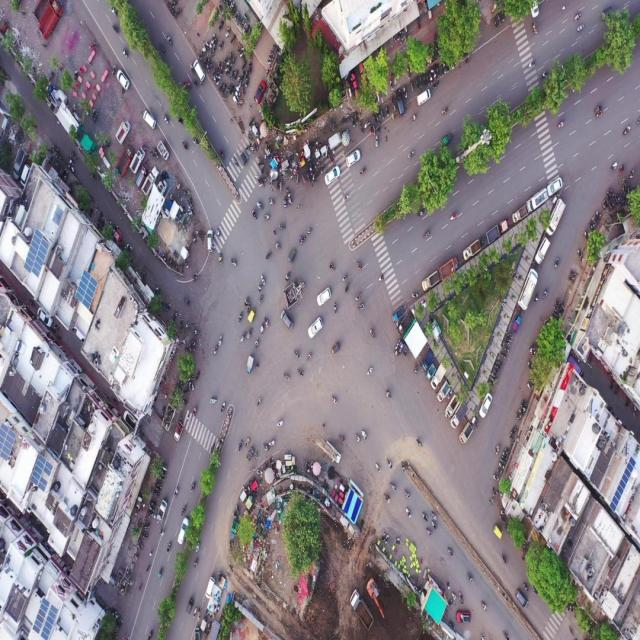3W: (490, 522, 504, 542), (601, 5, 614, 22), (441, 130, 454, 146), (184, 597, 195, 615), (512, 315, 522, 334), (287, 246, 297, 264), (246, 354, 255, 374), (239, 150, 249, 168), (245, 447, 255, 464), (248, 308, 257, 324), (331, 340, 339, 356)
Cars: (323, 165, 342, 188), (306, 315, 323, 340), (534, 236, 550, 262), (279, 307, 295, 332), (478, 392, 493, 418), (141, 107, 157, 131), (315, 286, 334, 306), (547, 177, 564, 198), (178, 517, 189, 549), (116, 69, 130, 92), (394, 88, 404, 117), (346, 148, 360, 168), (254, 80, 266, 103), (515, 589, 529, 608), (456, 610, 471, 626), (417, 88, 431, 105), (204, 577, 214, 599), (206, 228, 214, 254), (194, 60, 204, 80)
LCV: (545, 199, 566, 238), (521, 270, 537, 312), (526, 189, 549, 210), (439, 256, 458, 279), (325, 439, 341, 466), (142, 168, 158, 195), (422, 269, 441, 290), (134, 163, 148, 191), (436, 381, 452, 405), (444, 394, 459, 419), (116, 118, 130, 143), (462, 240, 481, 258), (156, 498, 169, 524), (172, 420, 185, 446), (130, 148, 144, 171), (432, 364, 444, 390), (157, 138, 170, 161), (460, 421, 472, 445), (327, 130, 342, 148), (397, 314, 410, 334), (512, 205, 527, 222), (422, 351, 433, 371), (392, 306, 404, 322), (426, 364, 436, 382), (398, 340, 409, 354)
M2W: (620, 124, 632, 140), (413, 438, 425, 450), (216, 250, 224, 268), (208, 394, 218, 408), (155, 567, 163, 584), (466, 572, 476, 585), (572, 12, 582, 25), (384, 387, 393, 401), (179, 503, 188, 517), (440, 103, 449, 117), (354, 302, 365, 313), (500, 554, 510, 566), (539, 68, 549, 80), (275, 418, 284, 431), (609, 160, 618, 173), (431, 79, 440, 92), (246, 326, 254, 340), (236, 310, 243, 326), (552, 256, 560, 270), (120, 48, 130, 59), (527, 59, 537, 70), (144, 629, 154, 640), (479, 599, 488, 611), (341, 271, 350, 283), (556, 118, 565, 130), (576, 22, 585, 34), (457, 589, 464, 604), (355, 259, 363, 272), (258, 322, 266, 335), (282, 372, 290, 385), (191, 269, 199, 282), (192, 556, 200, 569), (542, 287, 550, 300), (429, 520, 438, 531), (422, 229, 431, 240), (404, 487, 411, 501), (220, 399, 227, 413), (450, 592, 458, 604), (390, 480, 398, 492), (374, 462, 382, 474), (377, 273, 385, 285), (332, 299, 338, 315), (329, 256, 335, 272), (296, 366, 304, 378), (162, 114, 170, 126), (256, 396, 264, 408), (166, 539, 172, 555), (195, 538, 201, 554), (330, 394, 338, 406), (450, 210, 458, 222), (230, 30, 236, 46), (386, 457, 393, 470), (361, 429, 368, 442), (250, 210, 257, 223), (182, 141, 189, 154), (173, 485, 180, 498), (501, 630, 510, 640), (420, 512, 429, 522), (262, 213, 271, 223), (298, 235, 308, 244), (304, 225, 313, 235), (192, 403, 198, 418), (182, 296, 191, 306), (338, 433, 347, 443), (406, 150, 416, 159), (492, 16, 498, 31), (522, 582, 530, 593), (264, 251, 272, 262), (190, 135, 198, 146), (403, 84, 408, 101), (447, 546, 454, 558), (405, 506, 412, 518), (383, 492, 390, 504), (355, 432, 361, 446), (366, 365, 373, 377), (368, 328, 375, 340), (263, 316, 270, 328), (240, 330, 246, 344), (242, 294, 249, 306), (112, 24, 119, 36), (111, 63, 117, 77), (189, 481, 196, 493), (359, 166, 366, 178), (218, 38, 225, 50), (429, 511, 438, 520), (595, 111, 604, 120), (213, 342, 218, 358), (210, 440, 215, 456), (374, 134, 379, 150), (159, 41, 165, 54), (111, 5, 117, 18), (244, 435, 250, 448), (237, 439, 243, 452), (225, 25, 231, 38), (72, 69, 78, 82), (193, 78, 200, 89), (263, 441, 270, 452), (243, 12, 250, 23), (495, 442, 500, 457), (284, 270, 290, 282), (307, 350, 313, 362), (294, 348, 300, 360), (188, 62, 194, 74), (167, 34, 173, 46), (218, 334, 224, 346), (218, 20, 224, 32), (240, 46, 246, 58), (300, 173, 306, 185), (515, 412, 521, 424), (509, 426, 517, 435), (344, 282, 349, 296), (258, 294, 265, 304), (256, 201, 263, 211), (274, 242, 281, 252), (278, 222, 285, 232), (233, 155, 238, 169), (268, 438, 275, 448), (594, 103, 601, 113), (534, 291, 539, 305), (417, 208, 424, 218), (359, 122, 364, 136), (577, 248, 582, 262), (356, 291, 362, 302), (216, 227, 222, 238), (219, 148, 225, 159), (233, 69, 239, 80), (553, 298, 559, 309), (254, 336, 259, 349), (278, 179, 283, 192), (245, 77, 250, 90), (306, 172, 311, 185), (195, 369, 200, 382), (350, 116, 355, 129), (619, 164, 624, 177), (526, 382, 534, 390), (502, 450, 510, 458), (499, 352, 507, 360), (425, 527, 432, 536), (410, 113, 417, 122), (492, 473, 499, 482), (503, 345, 510, 354), (551, 312, 560, 319), (258, 282, 263, 294), (282, 198, 287, 210), (187, 78, 192, 90), (413, 363, 418, 375), (343, 193, 349, 203), (241, 85, 246, 97), (327, 153, 333, 163), (90, 108, 96, 118), (215, 75, 221, 85), (409, 81, 414, 93), (509, 434, 515, 444), (230, 259, 237, 267), (520, 404, 527, 412), (570, 270, 577, 278), (93, 112, 98, 123), (286, 187, 291, 198), (371, 125, 376, 136), (222, 57, 228, 66), (364, 120, 370, 129), (588, 222, 594, 231), (480, 234, 484, 247), (377, 121, 381, 134), (436, 66, 440, 79), (210, 33, 215, 43), (257, 158, 262, 168), (596, 211, 601, 221), (495, 359, 502, 366), (568, 276, 575, 283), (261, 274, 265, 286), (412, 291, 418, 299), (248, 62, 252, 74), (141, 533, 149, 539), (354, 112, 358, 124), (414, 78, 418, 90), (218, 83, 223, 92), (232, 55, 236, 66), (260, 163, 264, 174), (264, 171, 268, 182), (381, 110, 385, 121), (592, 215, 596, 226), (382, 531, 386, 542), (206, 41, 212, 48), (144, 524, 150, 531), (153, 492, 160, 498), (204, 44, 210, 51), (247, 134, 253, 141), (246, 144, 252, 151), (422, 75, 425, 89), (501, 456, 508, 462), (493, 369, 500, 375), (498, 13, 501, 27), (386, 534, 390, 544), (211, 47, 215, 57), (193, 608, 197, 618), (213, 38, 218, 46), (220, 64, 224, 74), (295, 174, 299, 184), (372, 114, 376, 124), (518, 308, 523, 316), (441, 64, 444, 77), (148, 506, 154, 512), (151, 501, 157, 507), (390, 79, 393, 91), (419, 76, 422, 88), (427, 75, 430, 87), (498, 462, 504, 468), (391, 96, 394, 107), (443, 63, 446, 74), (465, 55, 468, 66), (156, 483, 162, 488), (217, 62, 220, 72), (505, 338, 512, 342), (155, 488, 161, 492), (386, 105, 388, 117)
Truck: (349, 589, 373, 630), (38, 0, 60, 40), (115, 144, 134, 177)
